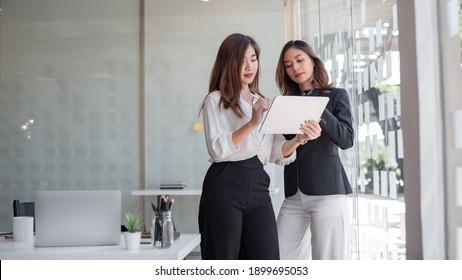No_Goggles: (284, 48, 307, 71)
No_Helmet: (216, 32, 263, 55), (280, 37, 309, 54)
